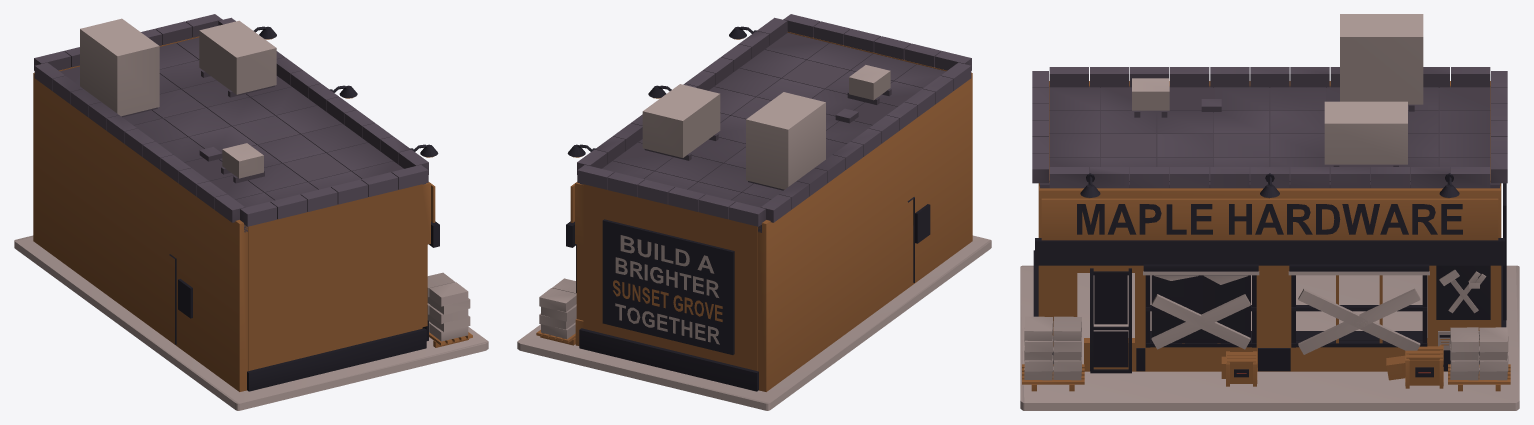
3 views of the same model, side by side, from view 1: azimuth 30°, elevation 25°; view 2: azimuth 150°, elevation 25°; view 3: azimuth 270°, elevation 25° (orthographic). The views are drawn at different scales.
Visible parts, largest first — view 1: root_pal_woodWarm, roof_pal_asphalt, roof_pal_sidewalk, root_pal_sidewalk, root_pal_uiDark; view 2: root_pal_woodWarm, roof_pal_asphalt, root_pal_uiDark, root_pal_sidewalk, roof_pal_sidewalk; view 3: roof_pal_asphalt, root_pal_sidewalk, root_pal_woodWarm, root_pal_uiDark, roof_pal_sidewalk, door_front_pal_uiDark.
Part boxes in pixels (x1,y1,x2,y2): root_pal_woodWarm: (33,36,472,391); roof_pal_asphalt: (34,14,428,232); roof_pal_sidewalk: (80,18,276,178); root_pal_sidewalk: (14,235,488,410); root_pal_uiDark: (169,26,439,391); root_pal_woodWarm: (536,32,972,391); roof_pal_asphalt: (577,14,971,232); root_pal_uiDark: (566,26,930,391); root_pal_sidewalk: (517,235,991,410); roof_pal_sidewalk: (642,65,890,189); roof_pal_asphalt: (1032,67,1507,188); root_pal_sidewalk: (1020,265,1519,410); root_pal_woodWarm: (1022,81,1510,391); root_pal_uiDark: (1033,173,1506,377); roof_pal_sidewalk: (1132,14,1423,164); door_front_pal_uiDark: (1090,268,1131,373).
Size of the model in its own units: 7.43 by 6.86 by 11.4.
